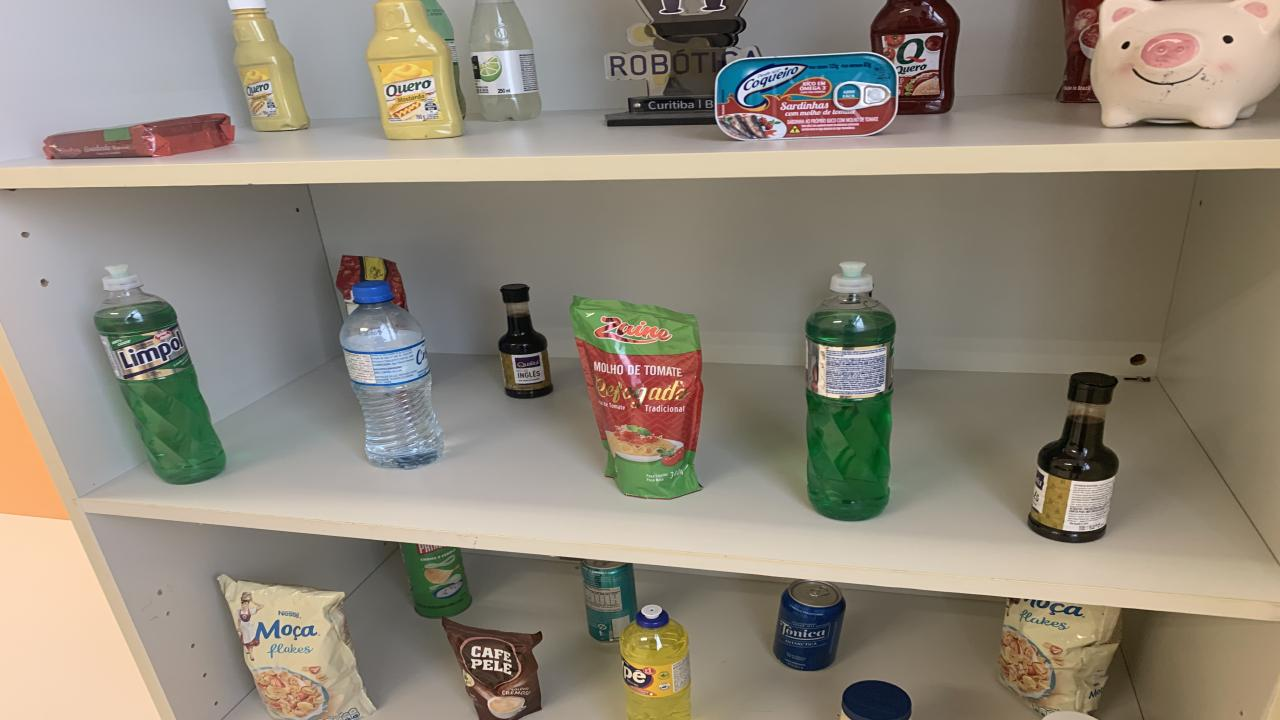Coffee-Pantry_Items: (440, 619, 542, 720)
Detergent-Cleanup_Items: (95, 264, 225, 484), (805, 262, 895, 521), (620, 604, 690, 720)
English_Sauce-Pantry_Items: (1028, 371, 1118, 542), (498, 285, 552, 398)
Flakes-Snacks: (218, 576, 375, 720), (998, 598, 1122, 714)
Guarana-Drinks: (420, 0, 468, 116)
Guava-Snacks: (42, 112, 235, 159)
Ketchup-Pantry_Items: (870, 0, 960, 114)
Mayonnaise-Pantry_Items: (840, 681, 912, 720)
Mustard-Pantry_Items: (368, 0, 462, 139), (230, 0, 310, 131)
Pig_Safe-Miscellaneous: (1090, 0, 1280, 128)
Pringles-Snacks: (402, 544, 472, 619)
Soda-Drinks: (470, 0, 540, 122)
Tea-Drinks: (582, 559, 638, 643)
Tomato_Sauce-Pantry_Items: (570, 296, 702, 499), (1058, 0, 1102, 103), (335, 255, 408, 313)
Tonic-Drinks: (772, 579, 845, 671)
Trophy-Miscellaneous: (605, 0, 748, 126)
Tuna_Can-Pantry_Items: (715, 52, 898, 141)
Water_Bottle-Drinks: (340, 281, 442, 469)
